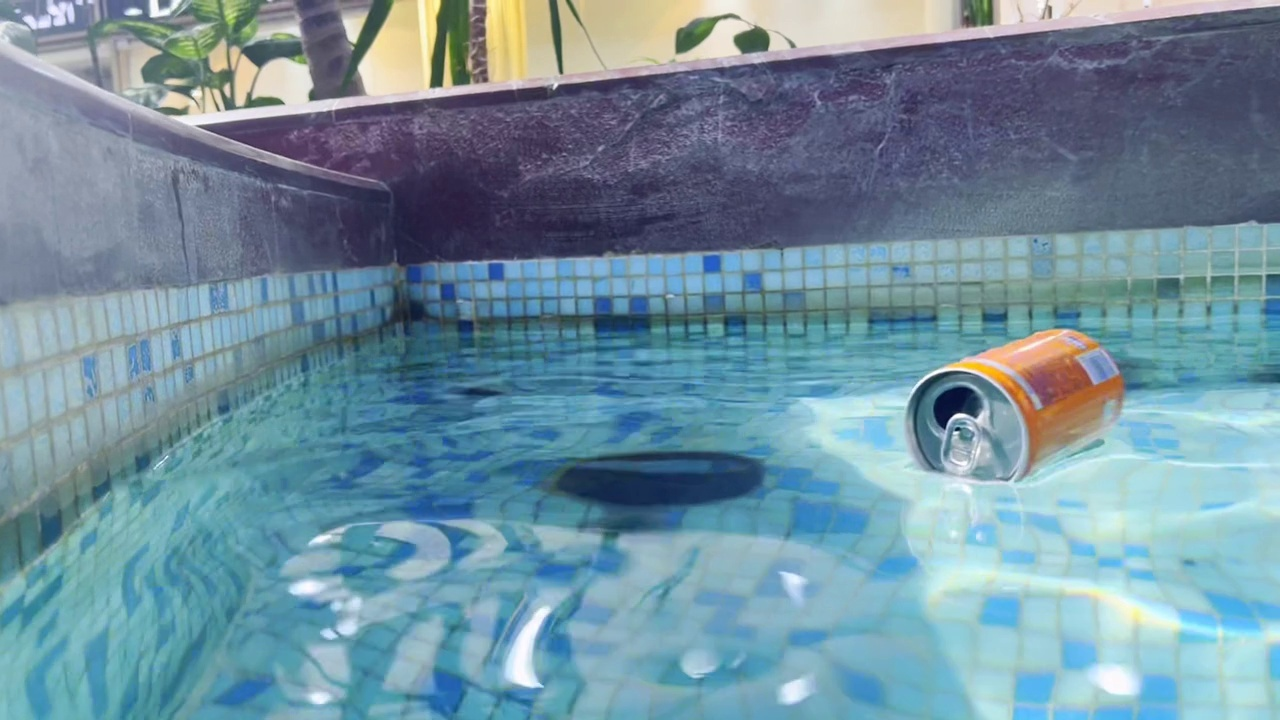debris: (890, 318, 1130, 491)
